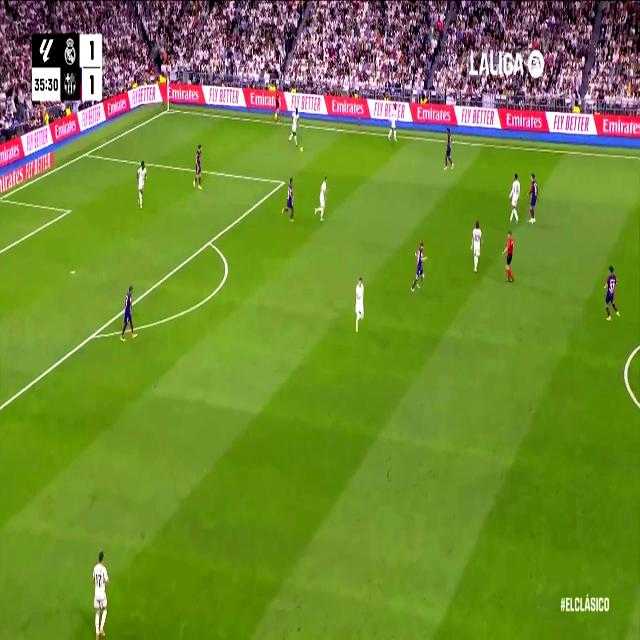bigarea_top_inner: (280, 174, 286, 190)
bigarea_top_outter: (83, 147, 90, 160)
bottom_arc_area_intersection: (89, 324, 98, 345)
corner: (164, 104, 172, 114)
smallarea_top_inner: (66, 203, 71, 217)
top_arc_area_intersection: (205, 233, 213, 250)
